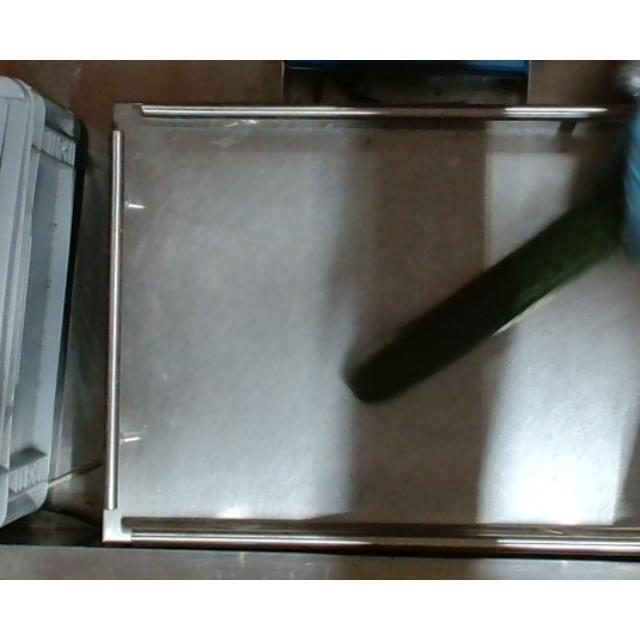cucumber: (350, 174, 636, 408)
